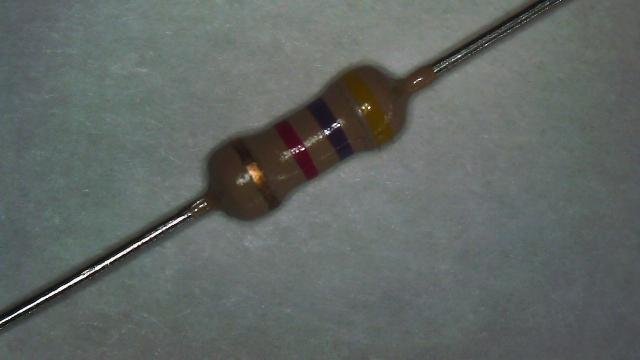gold: (234, 140, 278, 206)
red: (274, 119, 318, 178)
resistor: (165, 18, 455, 255)
violet: (308, 97, 354, 159)
yellow: (344, 71, 392, 144)
